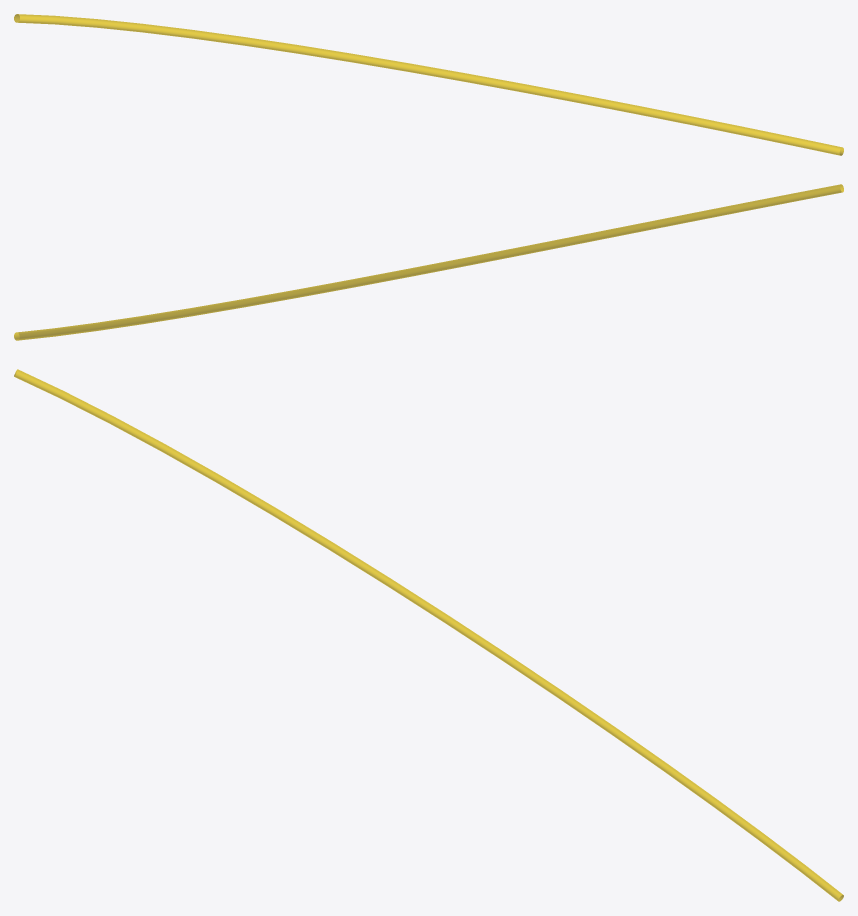
File: Event_75125125_track_108.fbx
The picture shows the model from 3 angles, top to bottom: view 1: azimuth 30°, elevation 25°; view 2: azimuth 150°, elevation 25°; view 3: azimuth 330°, elevation 25°; orthographic projection. The views are drawn at different scales.
Parts seen in each view (by area): view 1: Model; view 2: Model; view 3: Model.
Part boxes in pixels (left/top/right/bottom): Model: left=14, top=14, right=843, bottom=155; Model: left=14, top=184, right=843, bottom=340; Model: left=14, top=369, right=843, bottom=901.
Bounding box in the file's own units: 4.47 × 1.8 × 0.2803.
